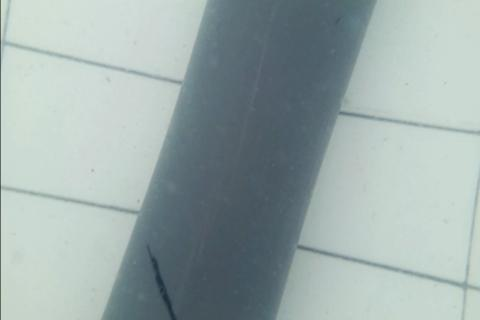keretakan: (144, 240, 176, 320)
